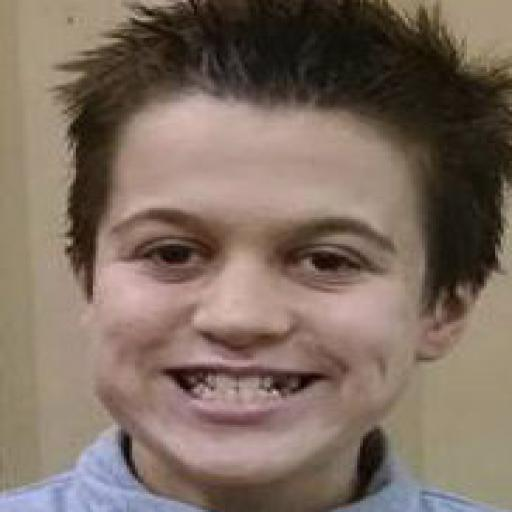Autism: (69, 14, 484, 464)
